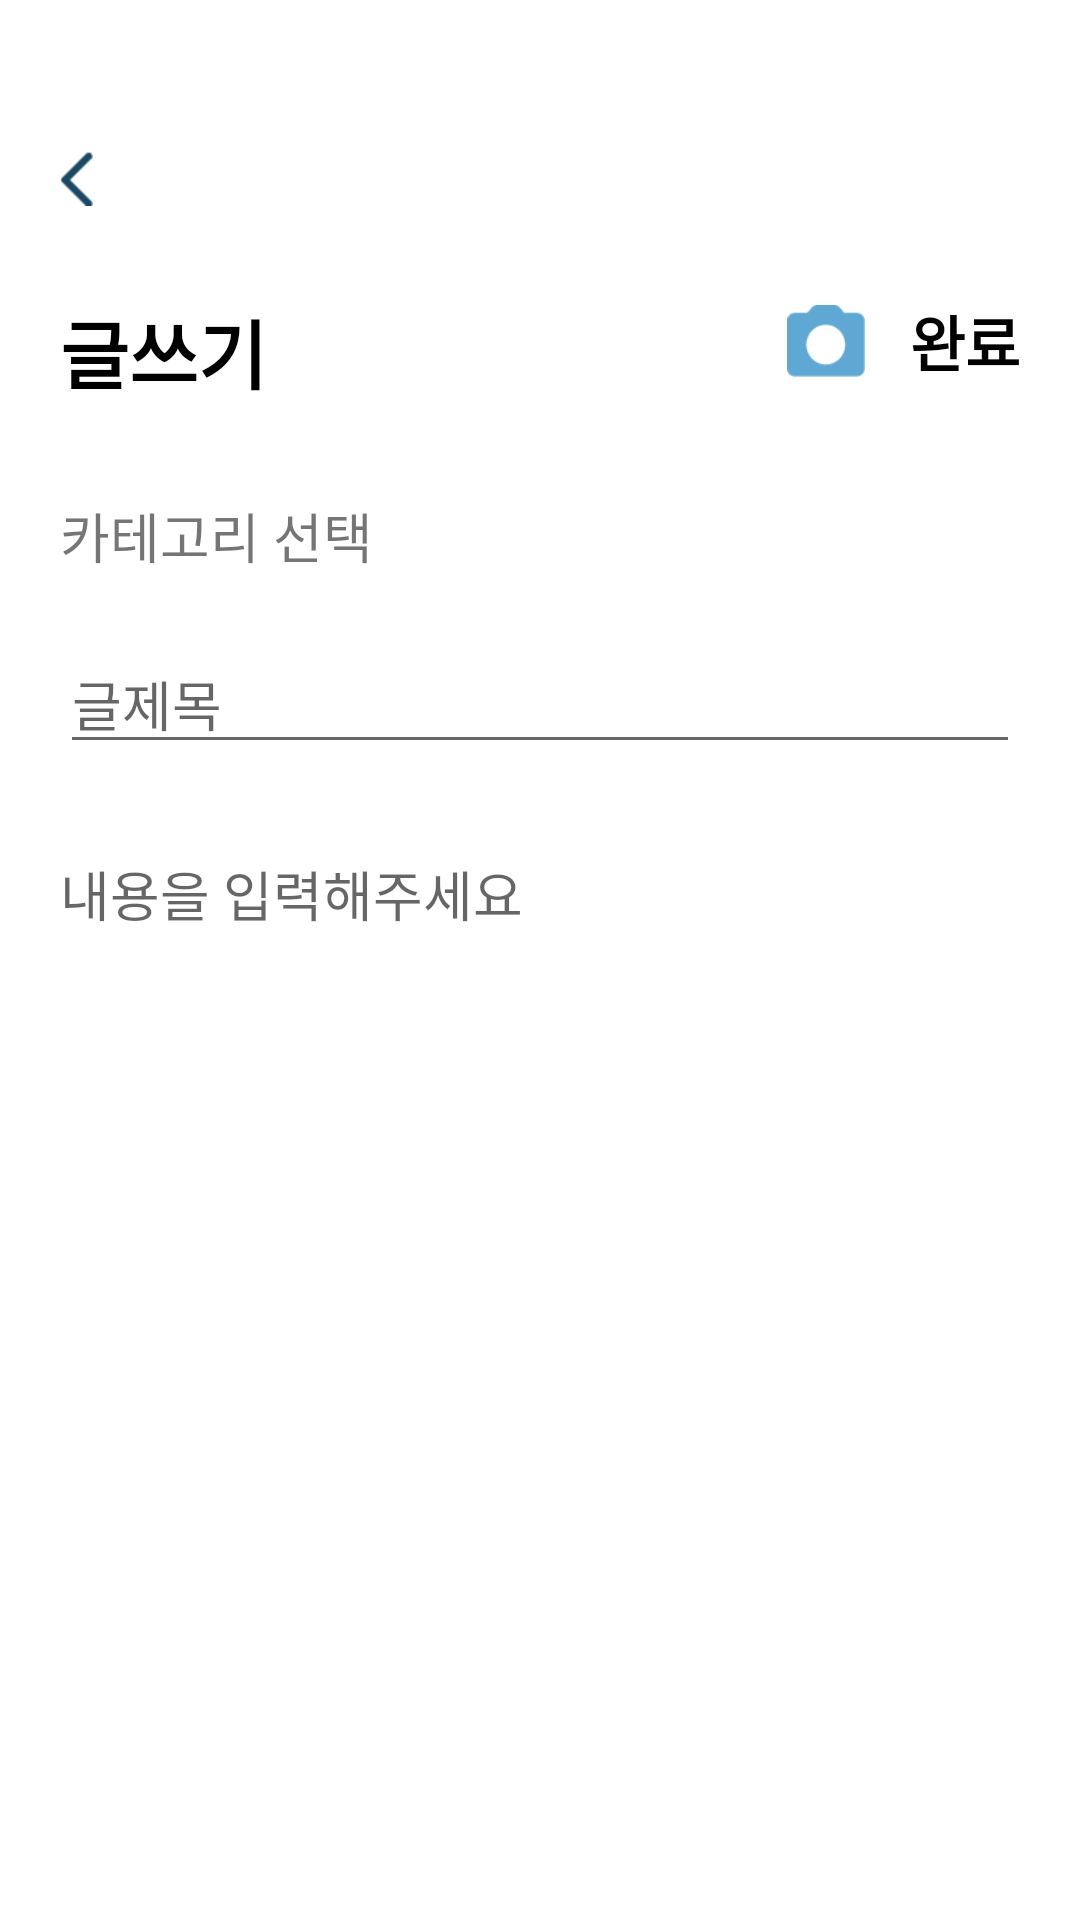

Where to tap for icons on this 1080x1920 app screen, as [x,y]:
back: [77,179]
camera: [826,341]
